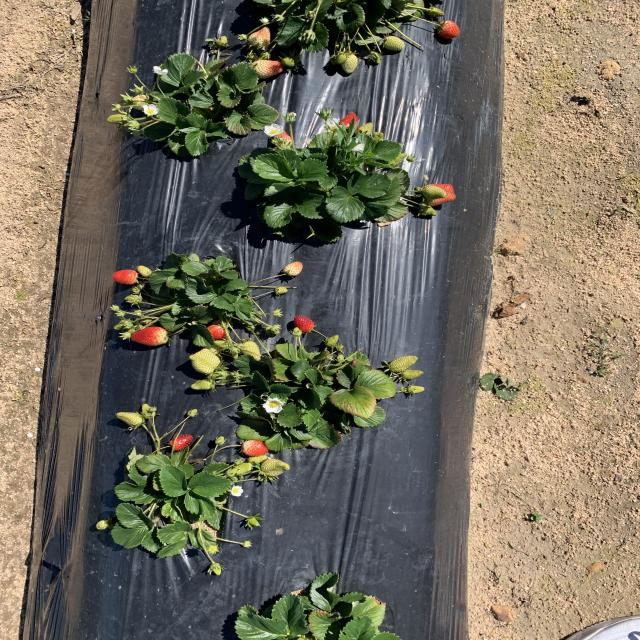unripe: (129, 326, 169, 348), (340, 111, 362, 134), (112, 269, 141, 284), (169, 434, 194, 451), (293, 315, 316, 333)
